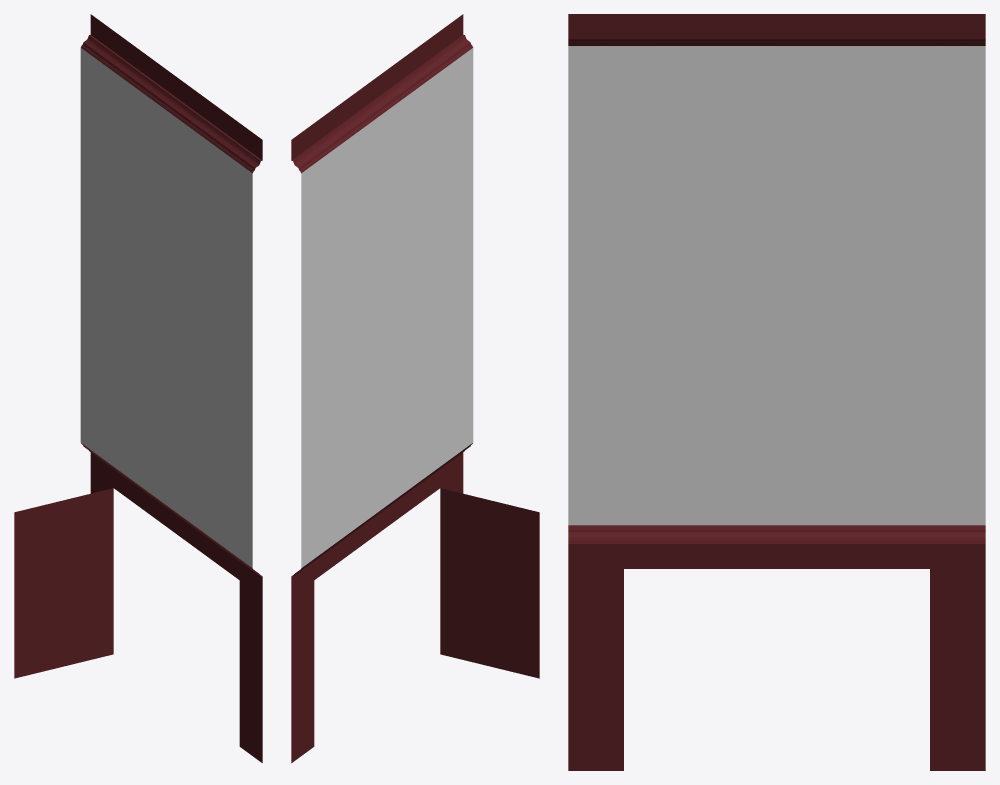
Rendered from sm_wall_vent.fbx.
3 views of the same model, side by side, from view 1: azimuth 30°, elevation 25°; view 2: azimuth 150°, elevation 25°; view 3: azimuth 270°, elevation 25° (orthographic). The views are drawn at different scales.
Visible parts, largest first — view 1: sm_wall_vent, sm_vent; view 2: sm_wall_vent, sm_vent; view 3: sm_wall_vent.
Boxes of the visible parts, x1,y1,x2,y2 form: sm_wall_vent: [80, 14, 262, 762]; sm_vent: [14, 488, 113, 678]; sm_wall_vent: [291, 14, 473, 762]; sm_vent: [440, 488, 539, 678]; sm_wall_vent: [568, 14, 985, 770].
Size of the model in its own units: 50 by 300 by 150.
